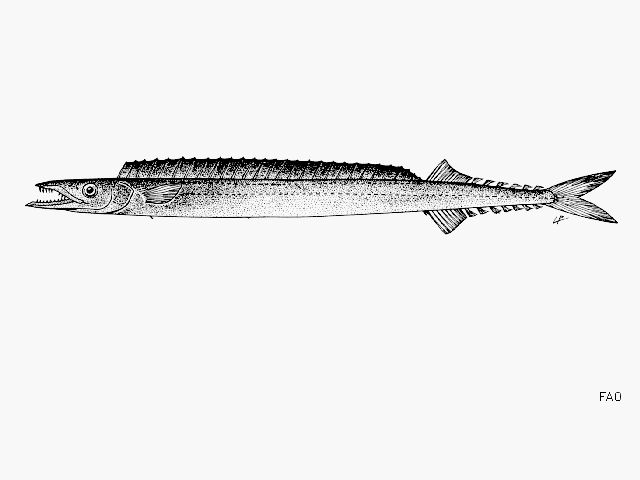fish: (24, 157, 618, 234)
